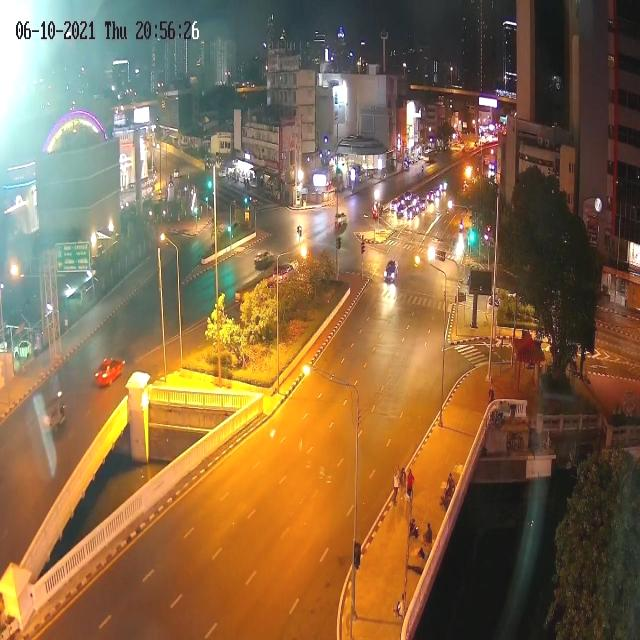Car: (94, 358, 125, 388), (265, 262, 297, 286), (382, 256, 400, 285), (14, 339, 33, 362), (254, 250, 274, 270), (334, 212, 348, 232), (390, 197, 404, 214), (488, 292, 501, 306), (426, 190, 436, 203), (436, 249, 446, 261), (434, 186, 441, 197), (404, 192, 412, 200), (407, 210, 414, 219), (413, 205, 420, 214), (405, 202, 412, 210), (421, 200, 427, 208)
